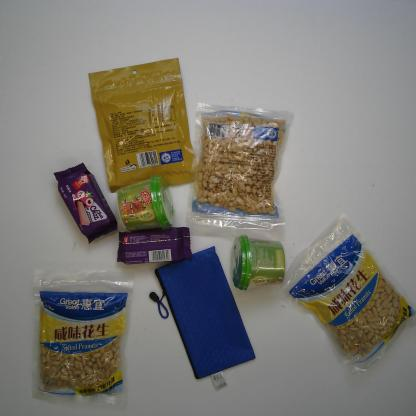Dessert: (53, 162, 120, 246), (115, 226, 194, 268)
Dried Fruit: (277, 210, 416, 376), (86, 57, 206, 194), (22, 266, 135, 410), (178, 100, 295, 232)
Instant Drink: (113, 173, 176, 233), (226, 233, 287, 292)
Stationery: (147, 244, 257, 392)
